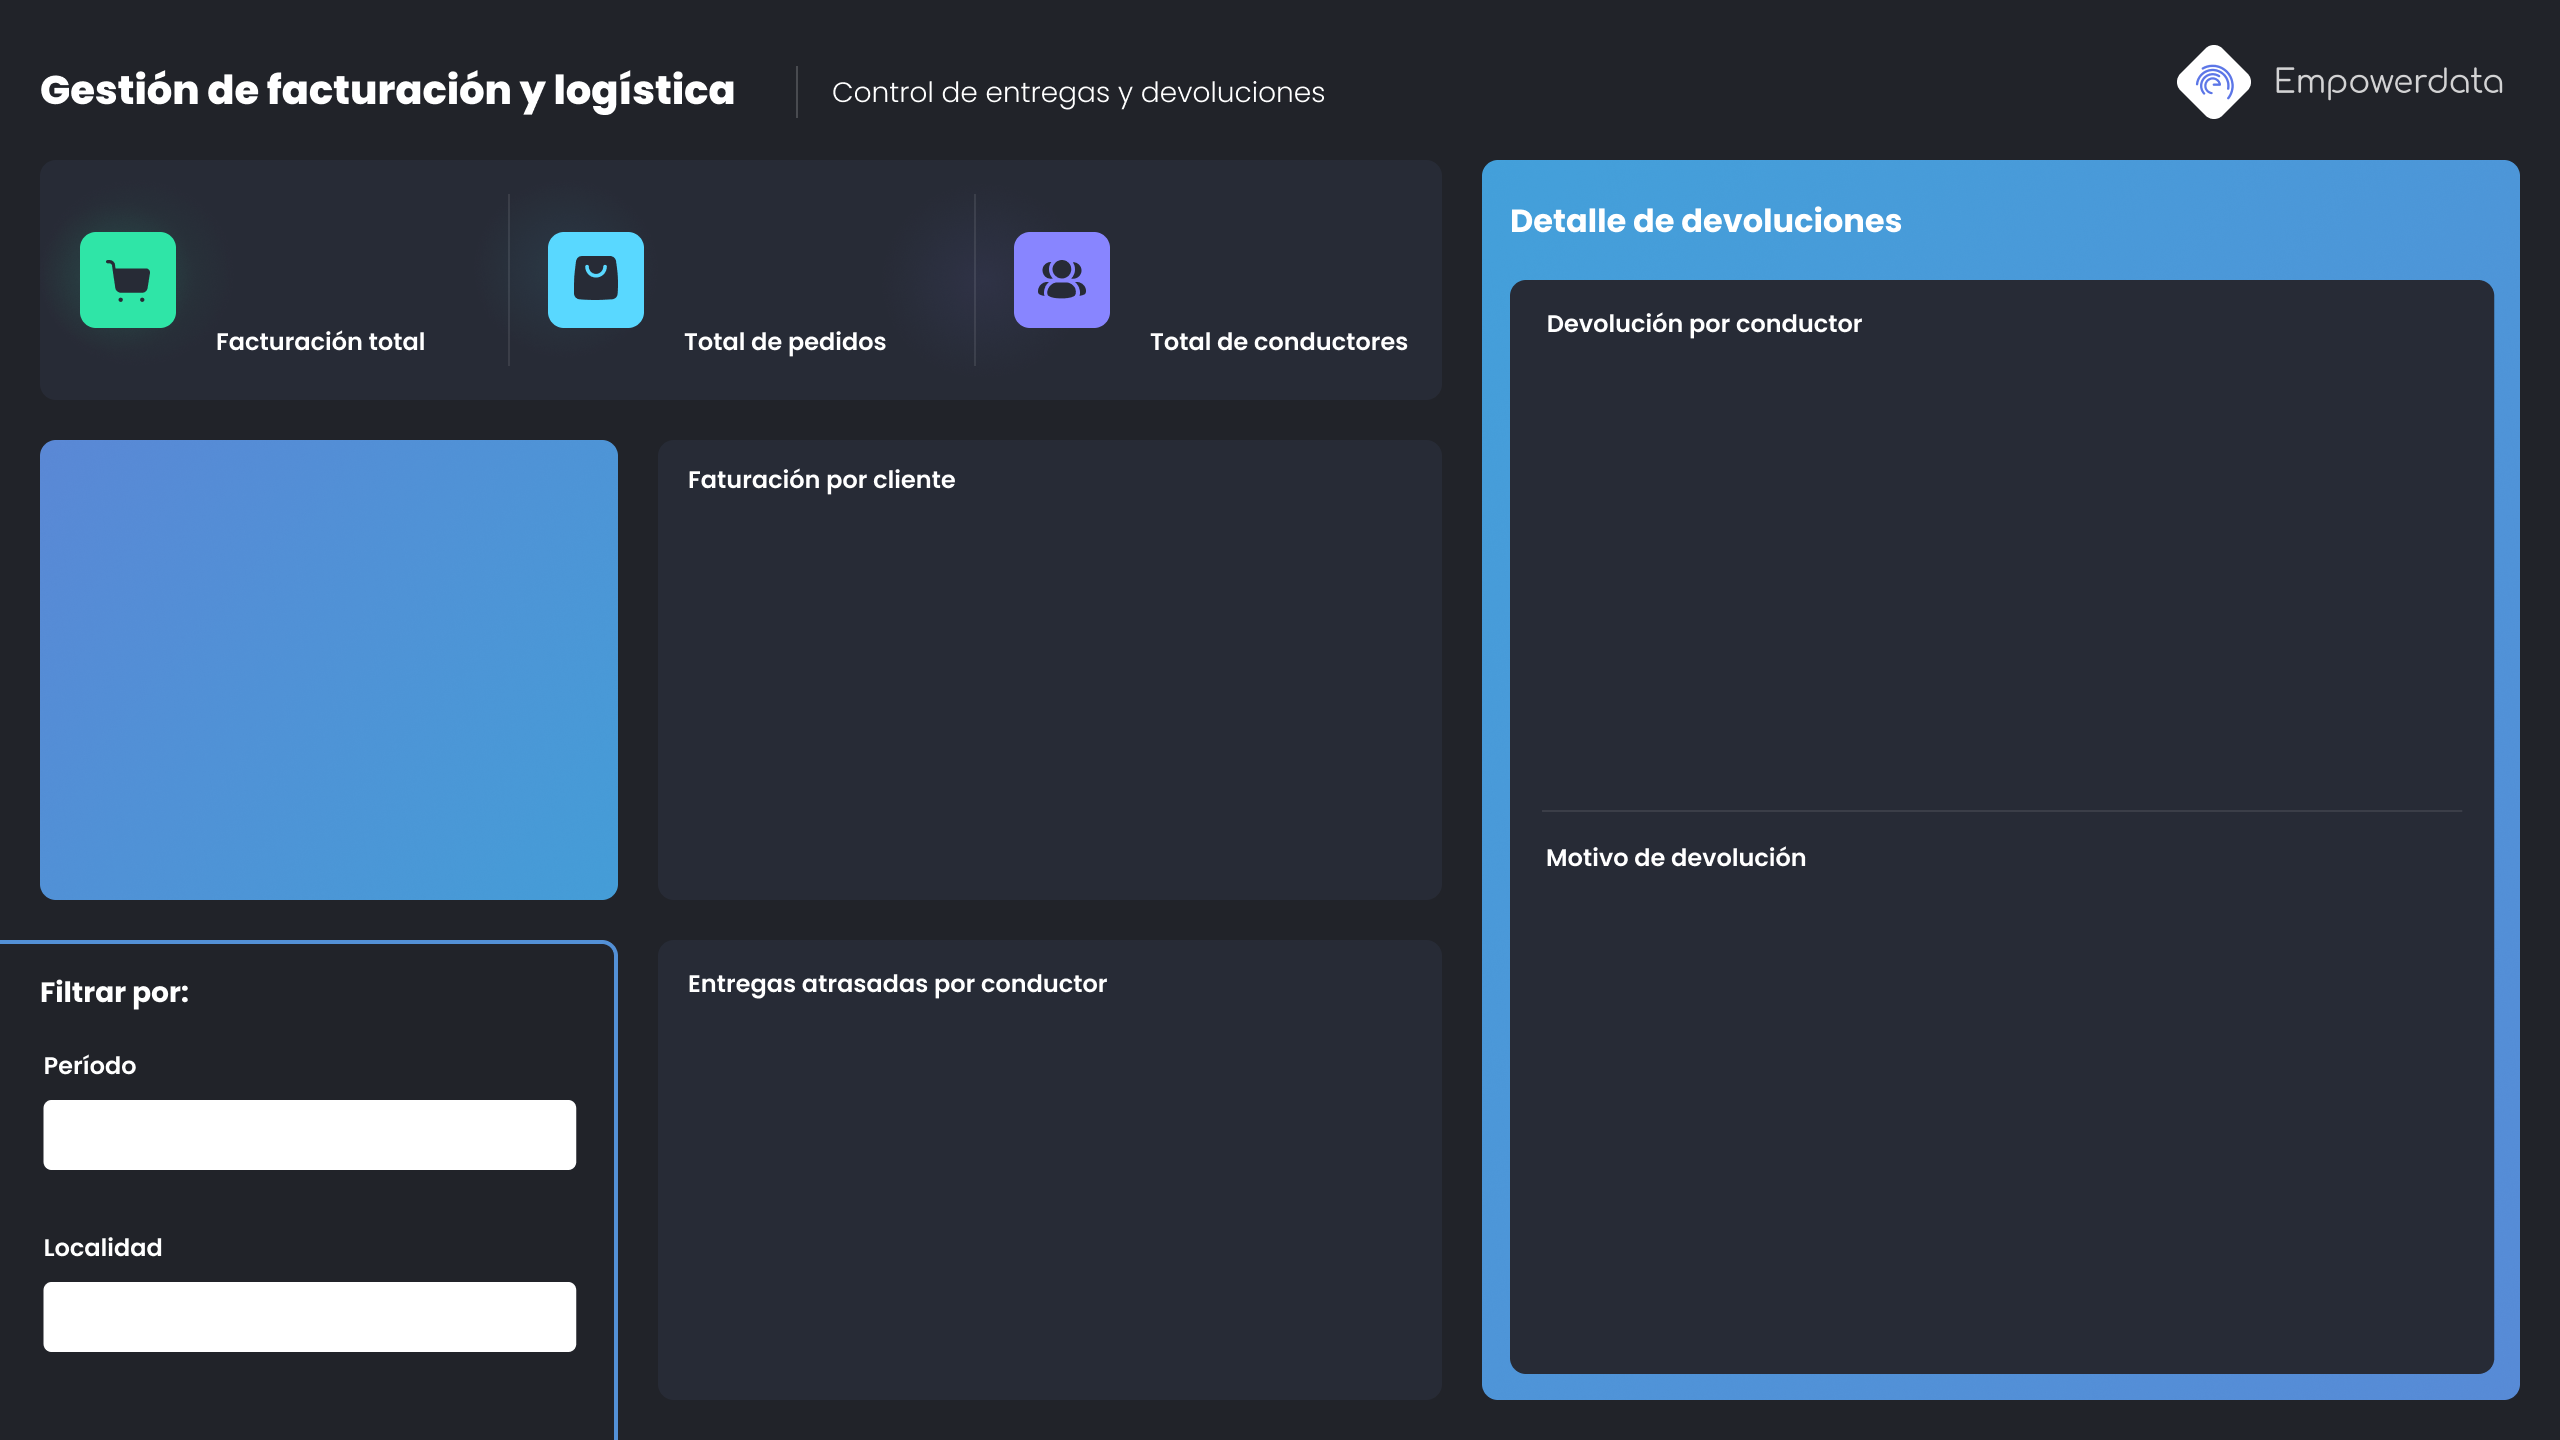

Layout of this report page (visuals, bound fields, positions):
{"tool":"powerbi","page":{"name":"Página 1","canvas":[1280,720],"ordinal":0},"visuals":[{"type":"card","fields":{"Values":["Sum(Base de datos.USD$ Faturados)"]},"box":[73.8,86.9,181.1,85.2],"z":0},{"type":"card","fields":{"Values":["CountNonNull(Base de datos.Nº Pedido)"]},"box":[303.3,86.9,180.3,85.2],"z":1000},{"type":"card","fields":{"Values":["Count(Base de datos.Motorista)"]},"box":[541.8,86.9,180.3,85.2],"z":2000},{"type":"clusteredBarChart","title":"Facturado por Cliente","fields":{"Category":["Base de datos.CLiente"],"Y":["Sum(Base de datos.USD$ Faturados)"]},"box":[355.8,226,355,221],"z":3000},{"type":"donutChart","title":"Pedido por Staus","fields":{"Category":["Base de datos.Status"],"Y":["CountNonNull(Base de datos.Nº Pedido)"]},"box":[20.5,214.8,295.9,244.3],"z":4000},{"type":"clusteredBarChart","title":"Facturado por Cliente","fields":{"Category":["Base de datos.Motorista"],"Y":["CountNonNull(Base de datos.Nº Pedido)"]},"box":[334.7,476.2,398,227.7],"z":5000},{"type":"treemap","fields":{"Values":["CountNonNull(Base de datos.Nº Pedido)"],"Group":["Base de datos.Motivo de Devolución"]},"box":[757.4,434.7,481.2,238.6],"z":6000},{"type":"hundredPercentStackedColumnChart","fields":{"Category":["Base de datos.Motorista"],"Series":["Base de datos.Motivo de Devolución"],"Y":["CountNonNull(Base de datos.Nº Pedido)"]},"box":[765.3,163.4,473.3,248.5],"z":7000},{"type":"slicer","fields":{"Values":["Base de datos.Fecha de Emisión del Pedido.Variación.Jerarquía de fechas.Año"]},"box":[10.9,546.5,284.2,43.6],"z":8000},{"type":"slicer","fields":{"Values":["Base de datos.Destino"]},"box":[10.9,639.6,284.2,40.6],"z":9000}]}

Visuals, with their boxes in screenshot pixels (x1, y1, x2, y2), scaled from the page's 1280x720 canvas onto the 2560x1440 screenshot:
card - Sum(Base de datos.USD$ Faturados): left=148, top=174, right=510, bottom=344
card - CountNonNull(Base de datos.Nº Pedido): left=607, top=174, right=967, bottom=344
card - Count(Base de datos.Motorista): left=1084, top=174, right=1444, bottom=344
"Facturado por Cliente" clusteredBarChart: left=712, top=452, right=1422, bottom=894
"Pedido por Staus" donutChart: left=41, top=430, right=633, bottom=918
"Facturado por Cliente" clusteredBarChart: left=669, top=952, right=1465, bottom=1408
treemap - CountNonNull(Base de datos.Nº Pedido) x Base de datos.Motivo de Devolución: left=1515, top=869, right=2477, bottom=1347
hundredPercentStackedColumnChart - Base de datos.Motorista x Base de datos.Motivo de Devolución: left=1531, top=327, right=2477, bottom=824
slicer - Base de datos.Fecha de Emisión del Pedido.Variación.Jerarquía de fechas.Año: left=22, top=1093, right=590, bottom=1180
slicer - Base de datos.Destino: left=22, top=1279, right=590, bottom=1360
